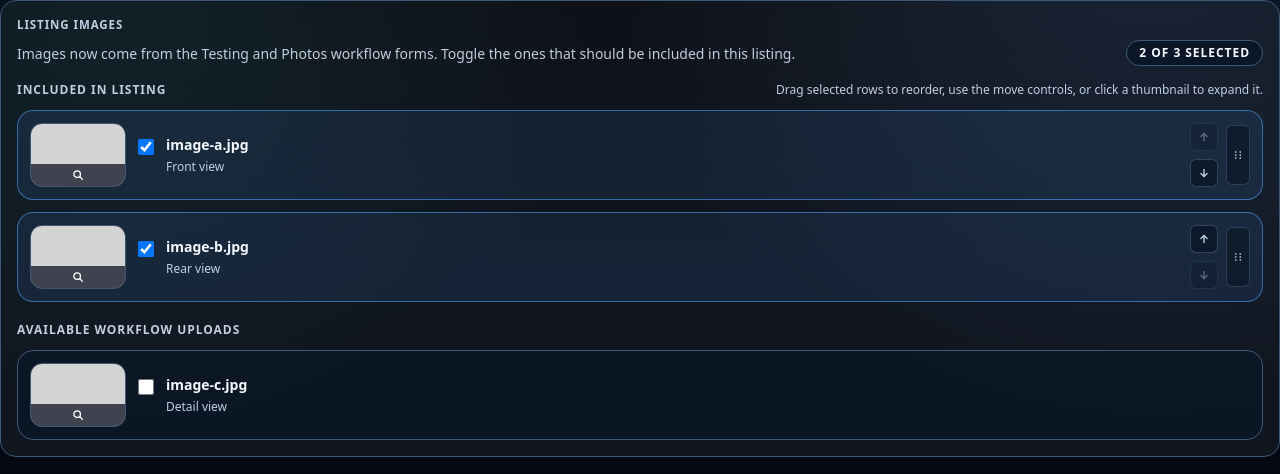
it: WorkflowListingImageSelector › reorders selected images with the move controls
Expected: the element with test id "selected-listing-image-card" shows "image-a.jpg", [166,135,249,154]
Expected: the element with test id "selected-listing-image-card" shows "image-b.jpg", [166,237,249,256]
Step 1. Click the button named "Move image later" in the row of "Front view" → coordinates (1204, 173), box [1190,159,1218,187]
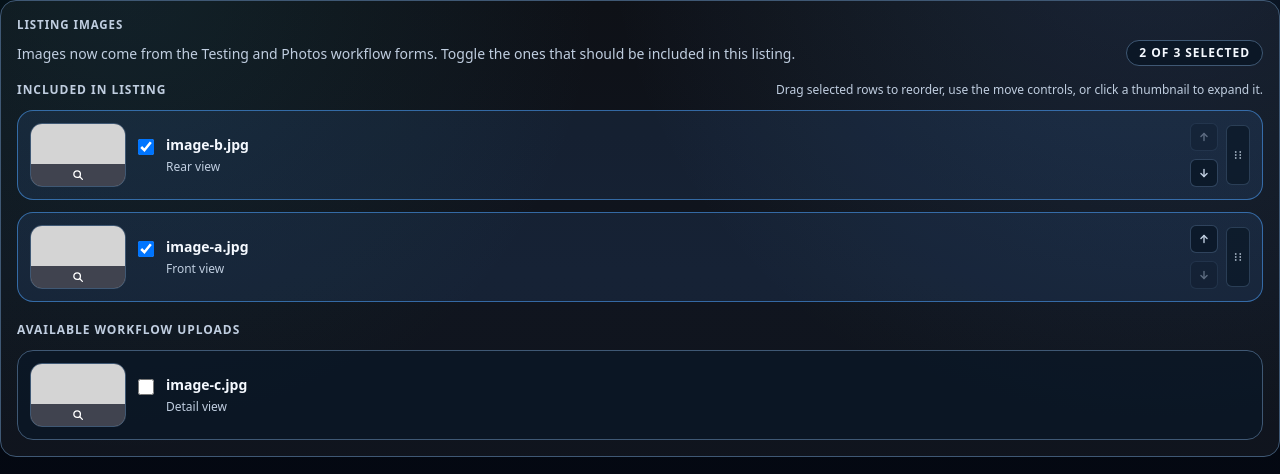
Result: the element with test id "selected-listing-image-card" shows "image-b.jpg" at [166,135,249,154]
Result: the element with test id "selected-listing-image-card" shows "image-a.jpg" at [166,237,249,256]
